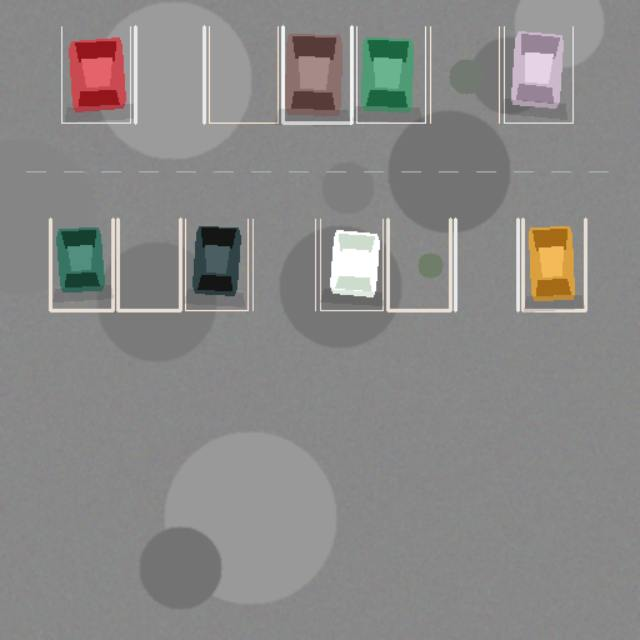space-empty: (135, 26, 204, 123), (209, 26, 278, 123), (430, 26, 499, 123), (252, 219, 315, 310), (455, 219, 518, 310), (118, 219, 180, 310), (388, 219, 450, 310)
space-occupied: (61, 26, 130, 123), (282, 26, 351, 123), (356, 26, 425, 123), (504, 26, 572, 123), (185, 219, 248, 310), (522, 219, 585, 310), (50, 219, 112, 310), (320, 219, 382, 310)
